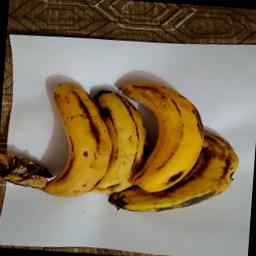Banana Unripe: (26, 76, 246, 222)
